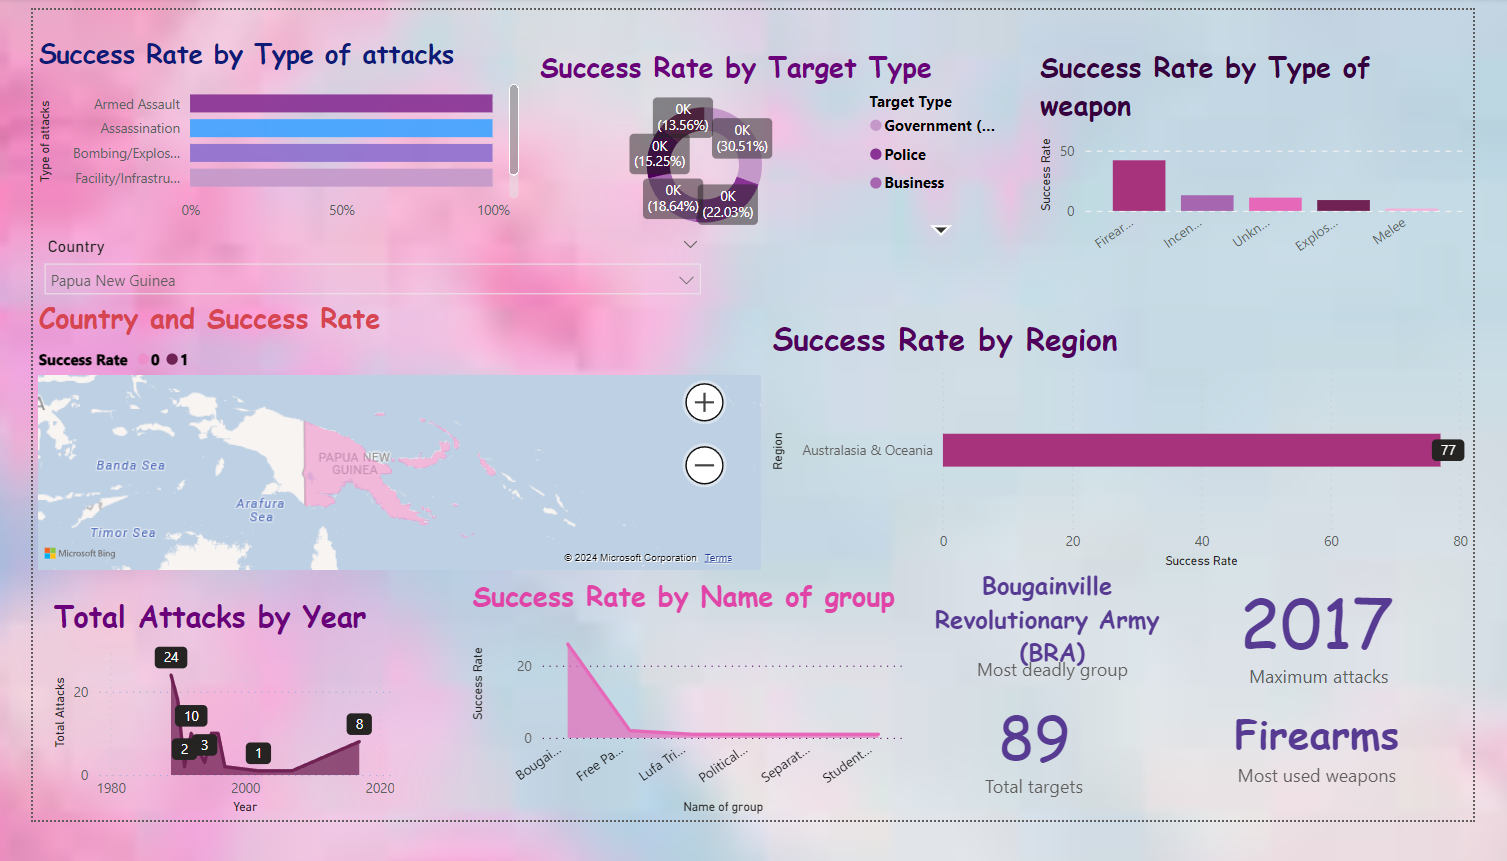

The dashboard page shown, as its layout file describes it:
{"tool":"powerbi","page":{"name":"Page 1","canvas":[1280,720],"ordinal":0},"visuals":[{"type":"hundredPercentStackedBarChart","fields":{"Category":["Global terrorism final data set.Type of attacks"],"Y":["Sum(Global terrorism final data set.Success Rate)"]},"box":[0,22.2,436.7,174.4],"z":0},{"type":"donutChart","fields":{"Category":["Global terrorism final data set.Target Type"],"Y":["Sum(Global terrorism final data set.Success Rate)"]},"box":[445.6,33.3,428.9,175.6],"z":1000},{"type":"clusteredColumnChart","fields":{"Category":["Global terrorism final data set.Type of weapon"],"Y":["Sum(Global terrorism final data set.Success Rate)"]},"box":[890,33.3,390,194.4],"z":2000},{"type":"filledMap","fields":{"Category":["Global terrorism final data set.Country"],"Series":["Global terrorism final data set.Success Rate"]},"box":[0,256.9,651.6,246.1],"z":3000},{"type":"barChart","fields":{"Category":["Global terrorism final data set.Region"],"Y":["Sum(Global terrorism final data set.Success Rate)"]},"box":[651.7,271.7,628.3,228.3],"z":4000},{"type":"areaChart","fields":{"Category":["Global terrorism final data set.Name of group"],"Y":["Sum(Global terrorism final data set.Success Rate)"]},"box":[385,503.3,393.3,216.7],"z":5000},{"type":"areaChart","fields":{"Category":["Global terrorism final data set.Year"],"Y":["CountNonNull(Global terrorism final data set.Year)"]},"box":[12.8,519.8,312.8,200],"z":6000},{"type":"slicer","fields":{"Values":["Global terrorism final data set.Country"]},"box":[0,196.7,603.3,75],"z":7000},{"type":"card","fields":{"Values":["Min(Global terrorism final data set.Name of group)"]},"box":[777.9,470.9,257,148],"z":8000},{"type":"card","fields":{"Values":["CountNonNull(Global terrorism final data set.Target Type)"]},"box":[786.7,601.7,206.7,106.7],"z":9000},{"type":"card","fields":{"Values":["Max(Global terrorism final data set.Year)"]},"box":[1046.7,503.3,188.3,100],"z":10000},{"type":"card","fields":{"Values":["Min(Global terrorism final data set.Type of weapon)"]},"box":[1001.7,588.3,278.3,131.7],"z":11000}]}

Visuals, with their boxes in screenshot pixels (x1, y1, x2, y2), scaled from the page's 1280x720 canvas onto the 1507x861 screenshot:
hundredPercentStackedBarChart - Global terrorism final data set.Type of attacks x Sum(Global terrorism final data set.Success Rate): <bbox>0, 27, 514, 235</bbox>
donutChart - Global terrorism final data set.Target Type x Sum(Global terrorism final data set.Success Rate): <bbox>525, 40, 1030, 250</bbox>
clusteredColumnChart - Global terrorism final data set.Type of weapon x Sum(Global terrorism final data set.Success Rate): <bbox>1048, 40, 1506, 272</bbox>
filledMap - Global terrorism final data set.Country x Global terrorism final data set.Success Rate: <bbox>0, 307, 767, 602</bbox>
barChart - Global terrorism final data set.Region x Sum(Global terrorism final data set.Success Rate): <bbox>767, 325, 1506, 598</bbox>
areaChart - Global terrorism final data set.Name of group x Sum(Global terrorism final data set.Success Rate): <bbox>453, 602, 916, 860</bbox>
areaChart - Global terrorism final data set.Year x CountNonNull(Global terrorism final data set.Year): <bbox>15, 622, 383, 860</bbox>
slicer - Global terrorism final data set.Country: <bbox>0, 235, 710, 325</bbox>
card - Min(Global terrorism final data set.Name of group): <bbox>916, 563, 1218, 740</bbox>
card - CountNonNull(Global terrorism final data set.Target Type): <bbox>926, 720, 1170, 847</bbox>
card - Max(Global terrorism final data set.Year): <bbox>1232, 602, 1454, 721</bbox>
card - Min(Global terrorism final data set.Type of weapon): <bbox>1179, 704, 1506, 860</bbox>
